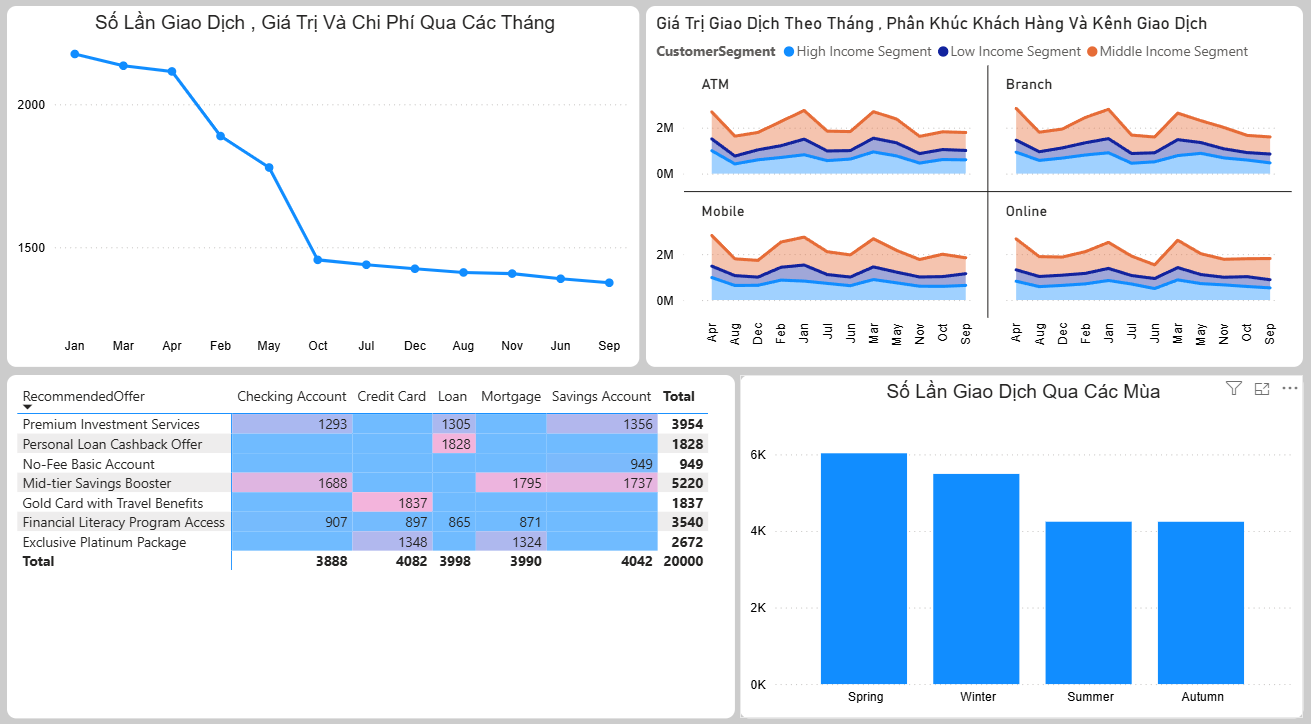

The page's visual inventory and layout, read from the dashboard file:
{"tool":"powerbi","page":{"name":"Page 4","canvas":[1280,720],"ordinal":3},"visuals":[{"type":"lineChart","title":"Số Lần Giao Dịch , Giá Trị Và Chi Phí Qua Các Tháng","fields":{"Category":["Banking Data.Month"],"Y":["Banking Data.Total Transactions"]},"box":[10.7,15.6,614.7,351.1],"z":0},{"type":"columnChart","title":"Số Lần Giao Dịch Qua Các Mùa","fields":{"Category":["Banking Data.Season"],"Y":["Banking Data.Total Transactions"]},"box":[723.6,374.5,547.6,333.6],"z":1000},{"type":"pivotTable","fields":{"Rows":["Banking Data.RecommendedOffer"],"Columns":["Banking Data.ProductCategory"],"Values":["Banking Data.Total Transactions"]},"box":[10.7,374.5,708.1,333.6],"z":2000},{"type":"stackedAreaChart","title":"Giá Trị Giao Dịch Theo Tháng , Phân Khúc Khách Hàng Và Kênh Giao Dịch","fields":{"Category":["Banking Data.Month"],"Series":["Banking Data.CustomerSegment"],"Y":["Banking Data.Total Amount"],"Rows":["Banking Data.Channel"]},"box":[632.2,15.6,639,351.1],"z":3000}]}

Visuals, with their boxes in screenshot pixels (x1, y1, x2, y2), scaled from the page's 1280x720 canvas onto the 1311x724 screenshot:
"Số Lần Giao Dịch , Giá Trị Và Chi Phí Qua Các Tháng" lineChart: left=11, top=16, right=641, bottom=369
"Số Lần Giao Dịch Qua Các Mùa" columnChart: left=741, top=377, right=1302, bottom=712
pivotTable - Banking Data.RecommendedOffer x Banking Data.ProductCategory: left=11, top=377, right=736, bottom=712
"Giá Trị Giao Dịch Theo Tháng , Phân Khúc Khách Hàng Và Kênh Giao Dịch" stackedAreaChart: left=648, top=16, right=1302, bottom=369
